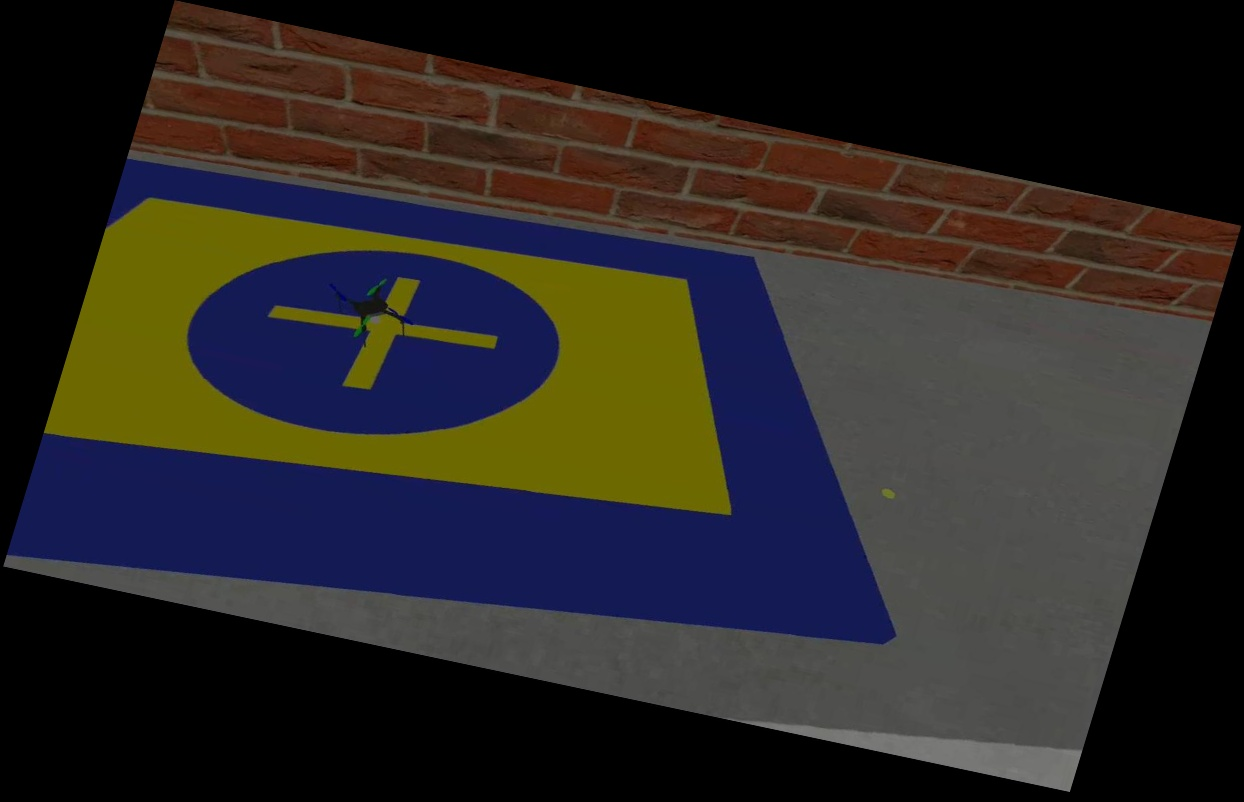large_base: (7, 127, 995, 736)
